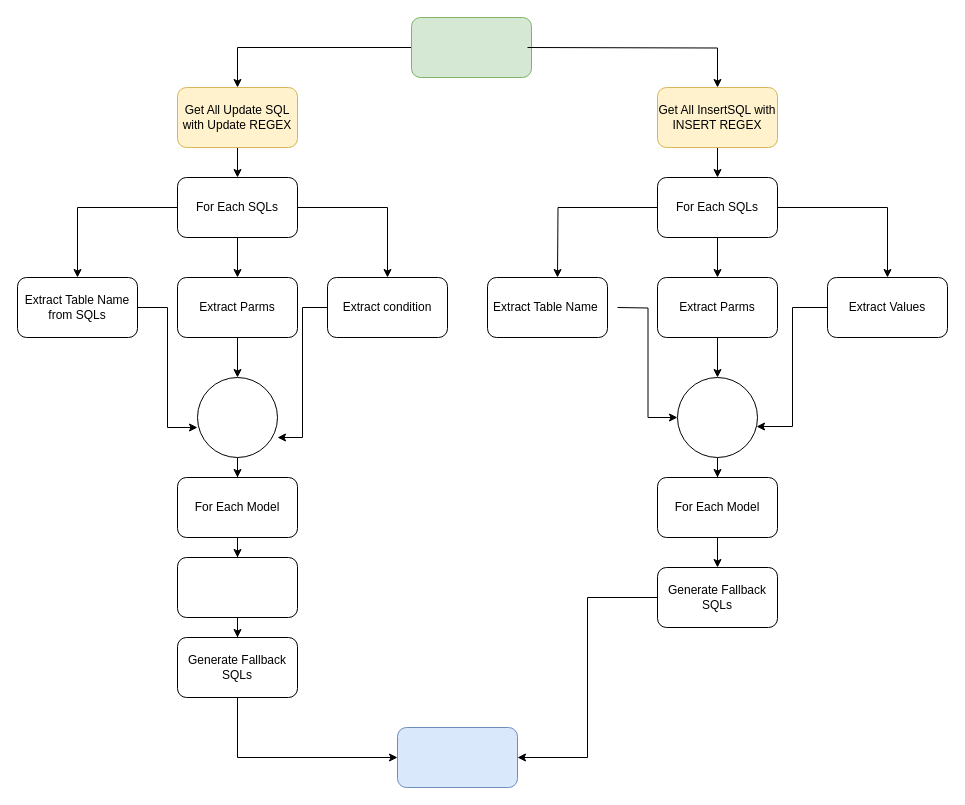
This 965x805 diagram has some shape labels left out. The centre of each missing label's shape, as x and y in pixels:
Extract Cur Values in DB: point (237, 587)
Insert SQL Models: point (717, 417)
Load script from file: point (471, 47)
Update SQL Models: point (237, 417)
Write To File: point (457, 757)
